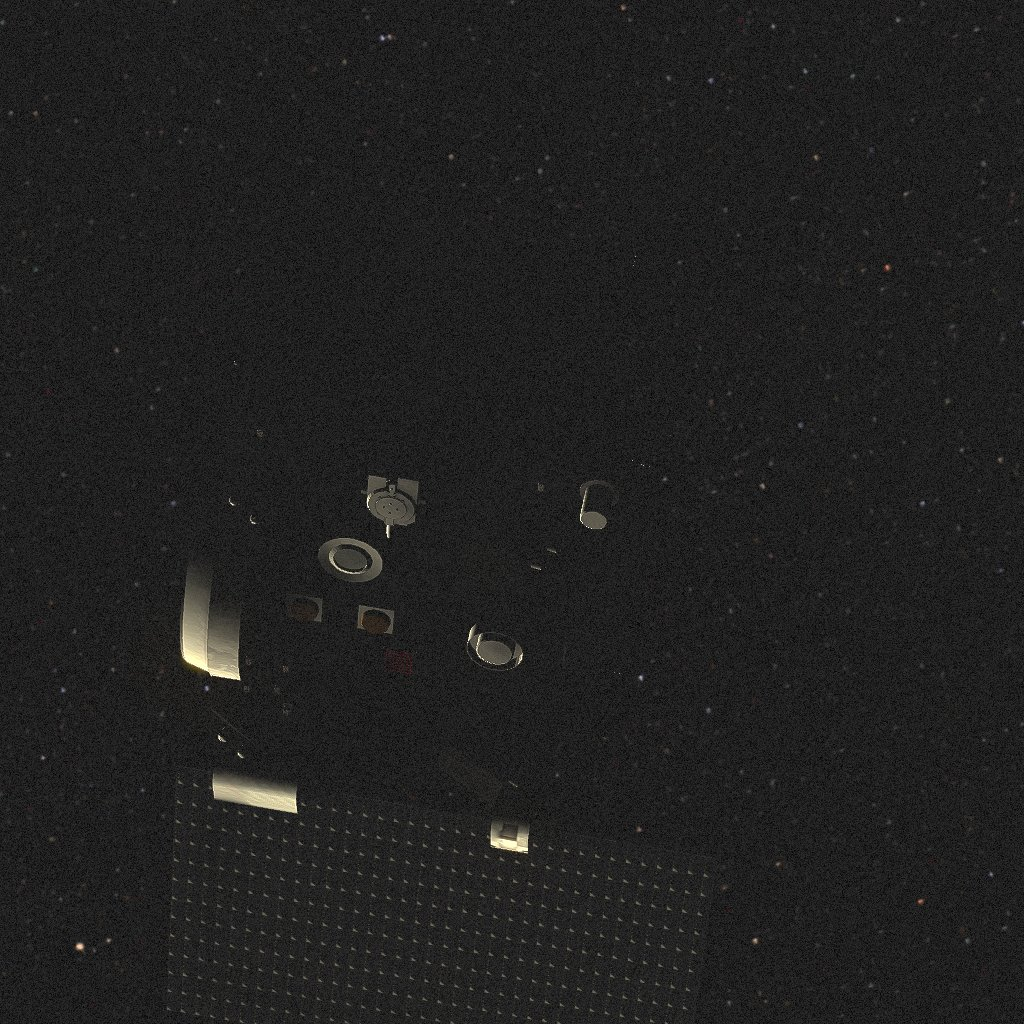proba_3_csc: (167, 176, 718, 1024)
